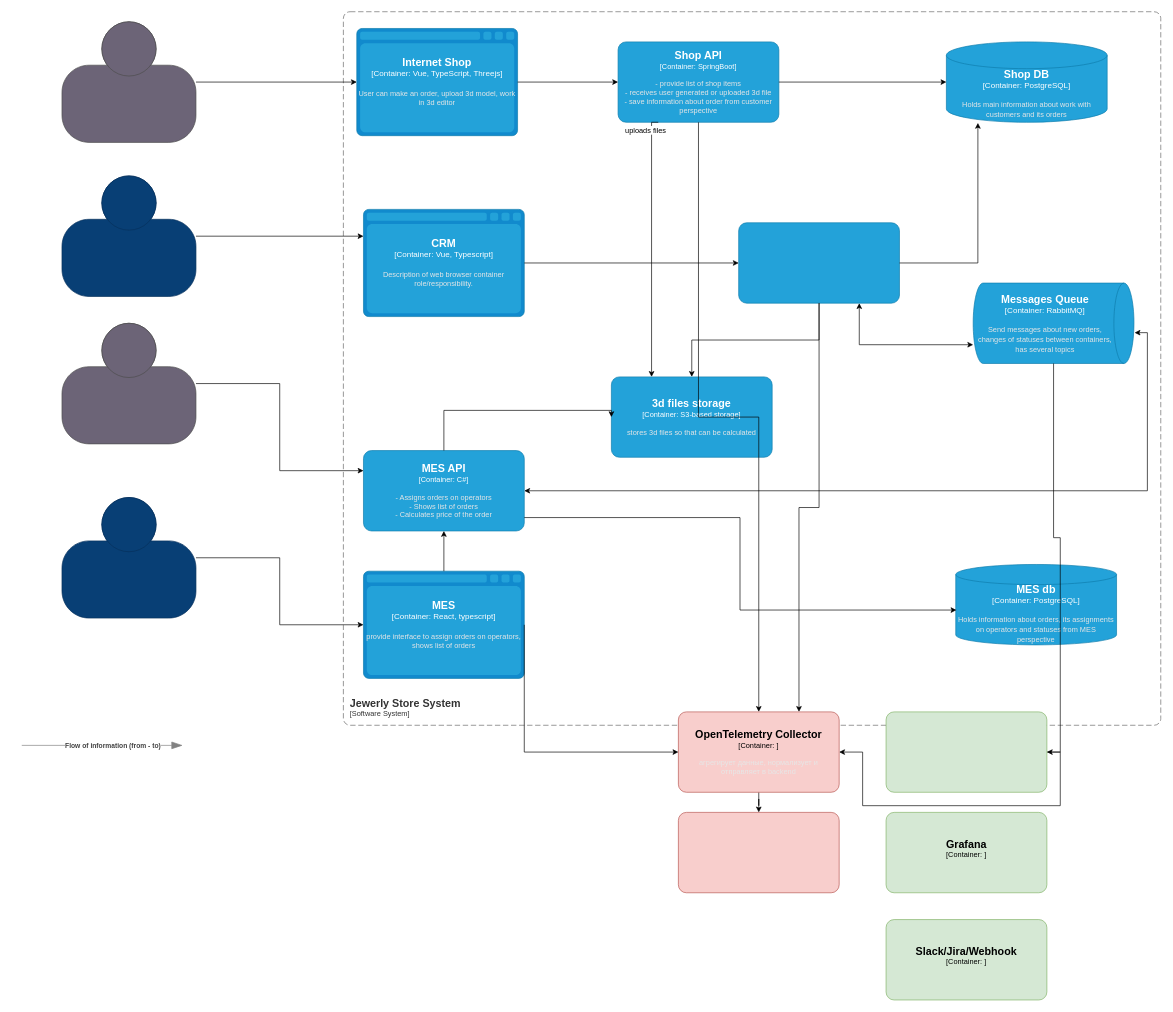
Image size: 1173x1012. Some labels were removed from this diagram. Here are the shapes that lost their labels. From the top down, the centre of each, then its label:
(128,81): Customer [Person] Description of external person.
(128,235): Seller [Person] Operates with order, confirms manufacturing for the user
(818,262): CRM API [Container: SpringBoot] Description of container role/responsibility.
(128,383): API user [Person] Description of external person.
(128,557): Operator [Person] Takes order in work, manufactures jewerly
(966,751): Prometheus [Container: ]
(758,852): Jaeger [Container: ] хранилище и интерфейс для визуализации трейсингов
